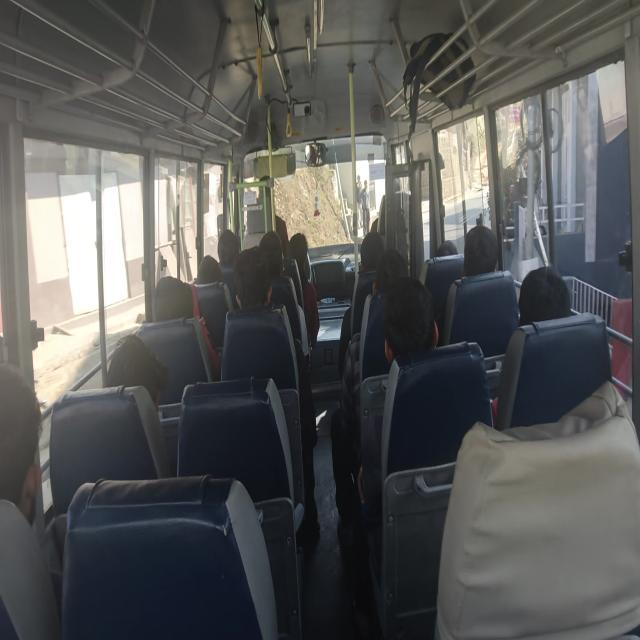person: (434, 379, 639, 638), (222, 246, 319, 538), (330, 248, 410, 546), (356, 276, 439, 538), (0, 361, 62, 638), (489, 265, 572, 427), (0, 361, 43, 525), (338, 230, 385, 374), (383, 276, 439, 366), (288, 232, 320, 349), (518, 265, 571, 326), (233, 246, 273, 309), (462, 224, 498, 276), (217, 228, 240, 270), (196, 254, 222, 284), (360, 179, 370, 235), (435, 240, 457, 256), (356, 175, 362, 228)
